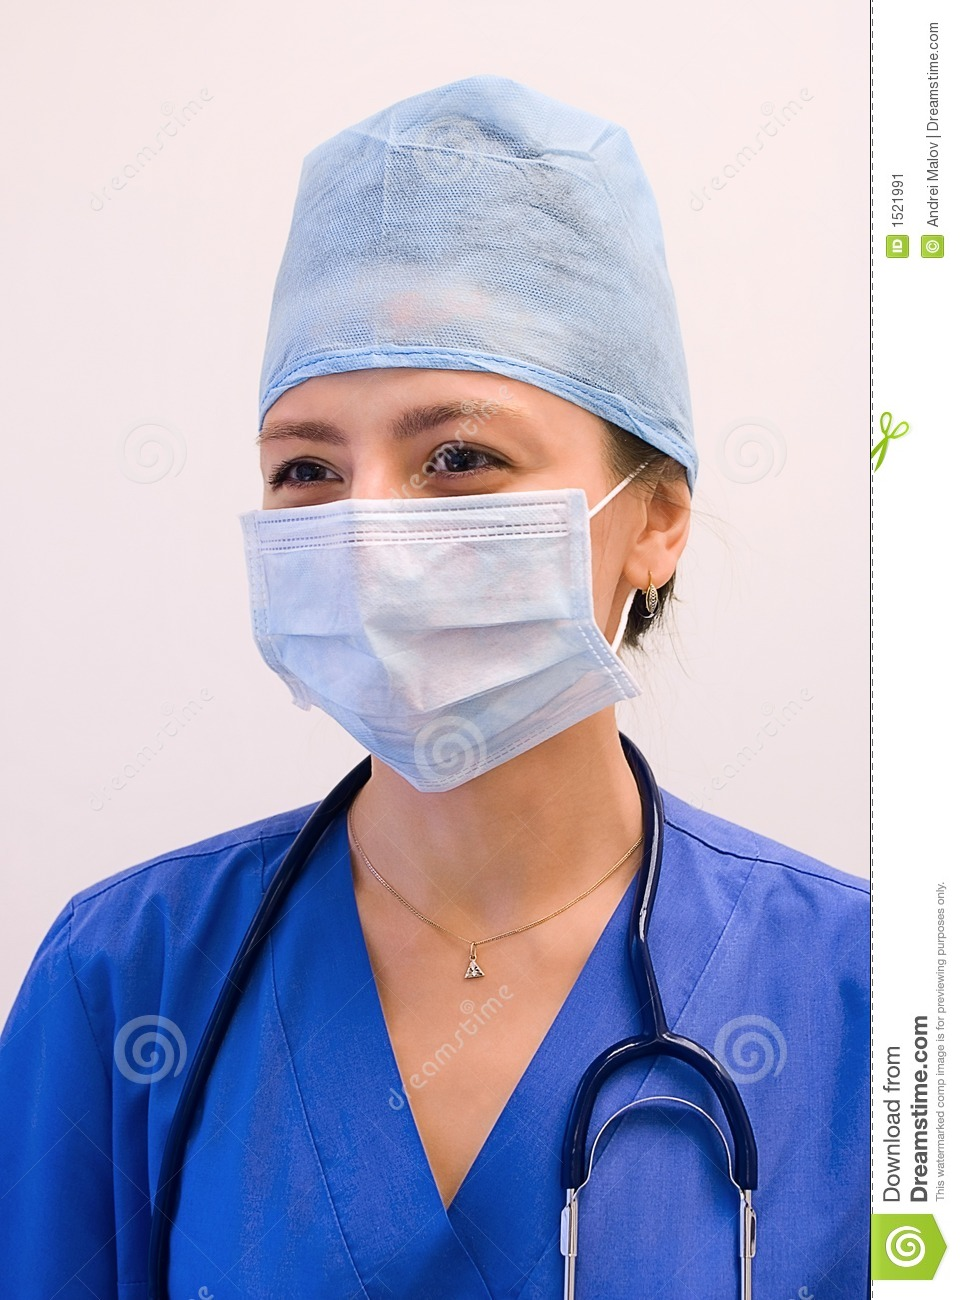mask: (240, 497, 648, 783)
